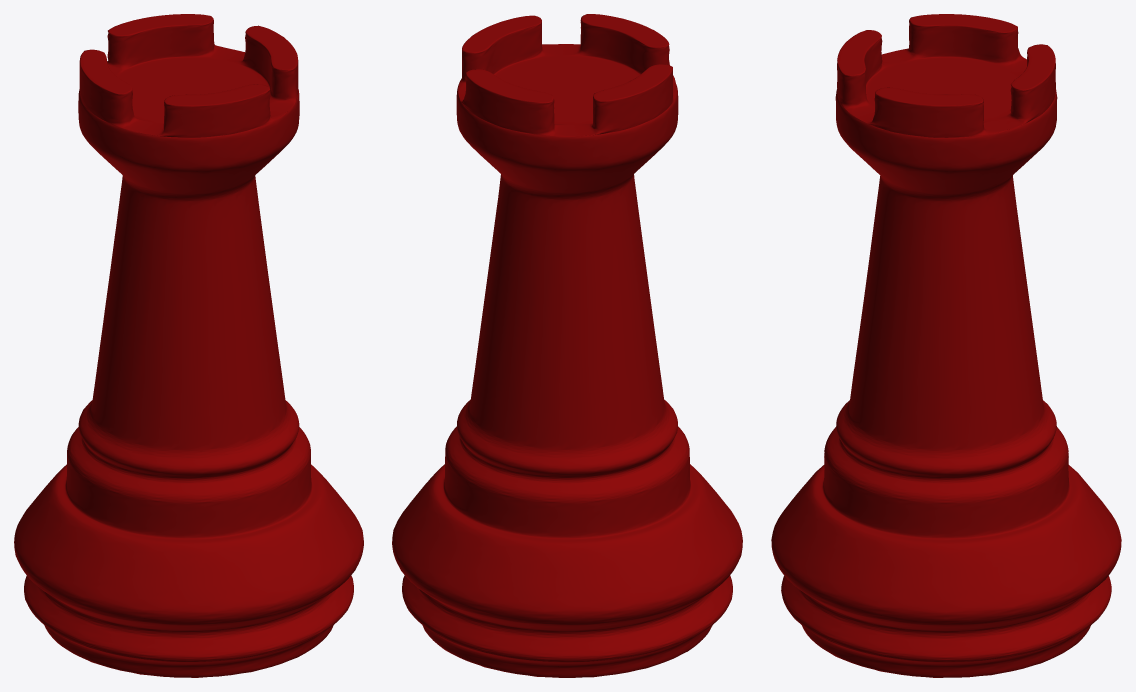
The picture shows the model from 3 angles, left to right: view 1: azimuth 30°, elevation 25°; view 2: azimuth 150°, elevation 25°; view 3: azimuth 270°, elevation 25°; orthographic projection.
Parts seen in each view (by area): view 1: Rook_03; view 2: Rook_03; view 3: Rook_03.
Boxes of the visible parts, <box> form: Rook_03: <box>14,14,363,677</box>; Rook_03: <box>392,14,742,677</box>; Rook_03: <box>771,14,1121,677</box>.
Bounding box in the file's own units: 0.2944 × 0.5182 × 0.2944.
